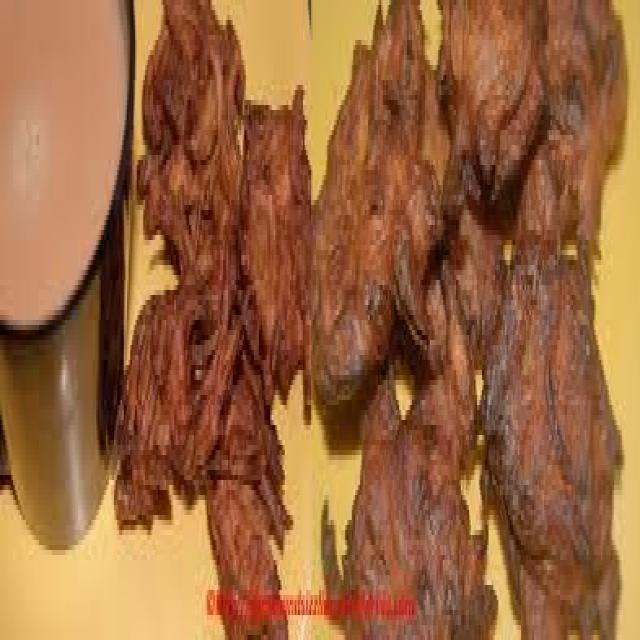BAJI: (485, 246, 620, 626), (123, 279, 268, 626), (319, 12, 434, 401), (328, 373, 482, 630), (137, 2, 245, 293), (439, 16, 565, 224), (239, 101, 320, 367), (420, 250, 507, 446)
